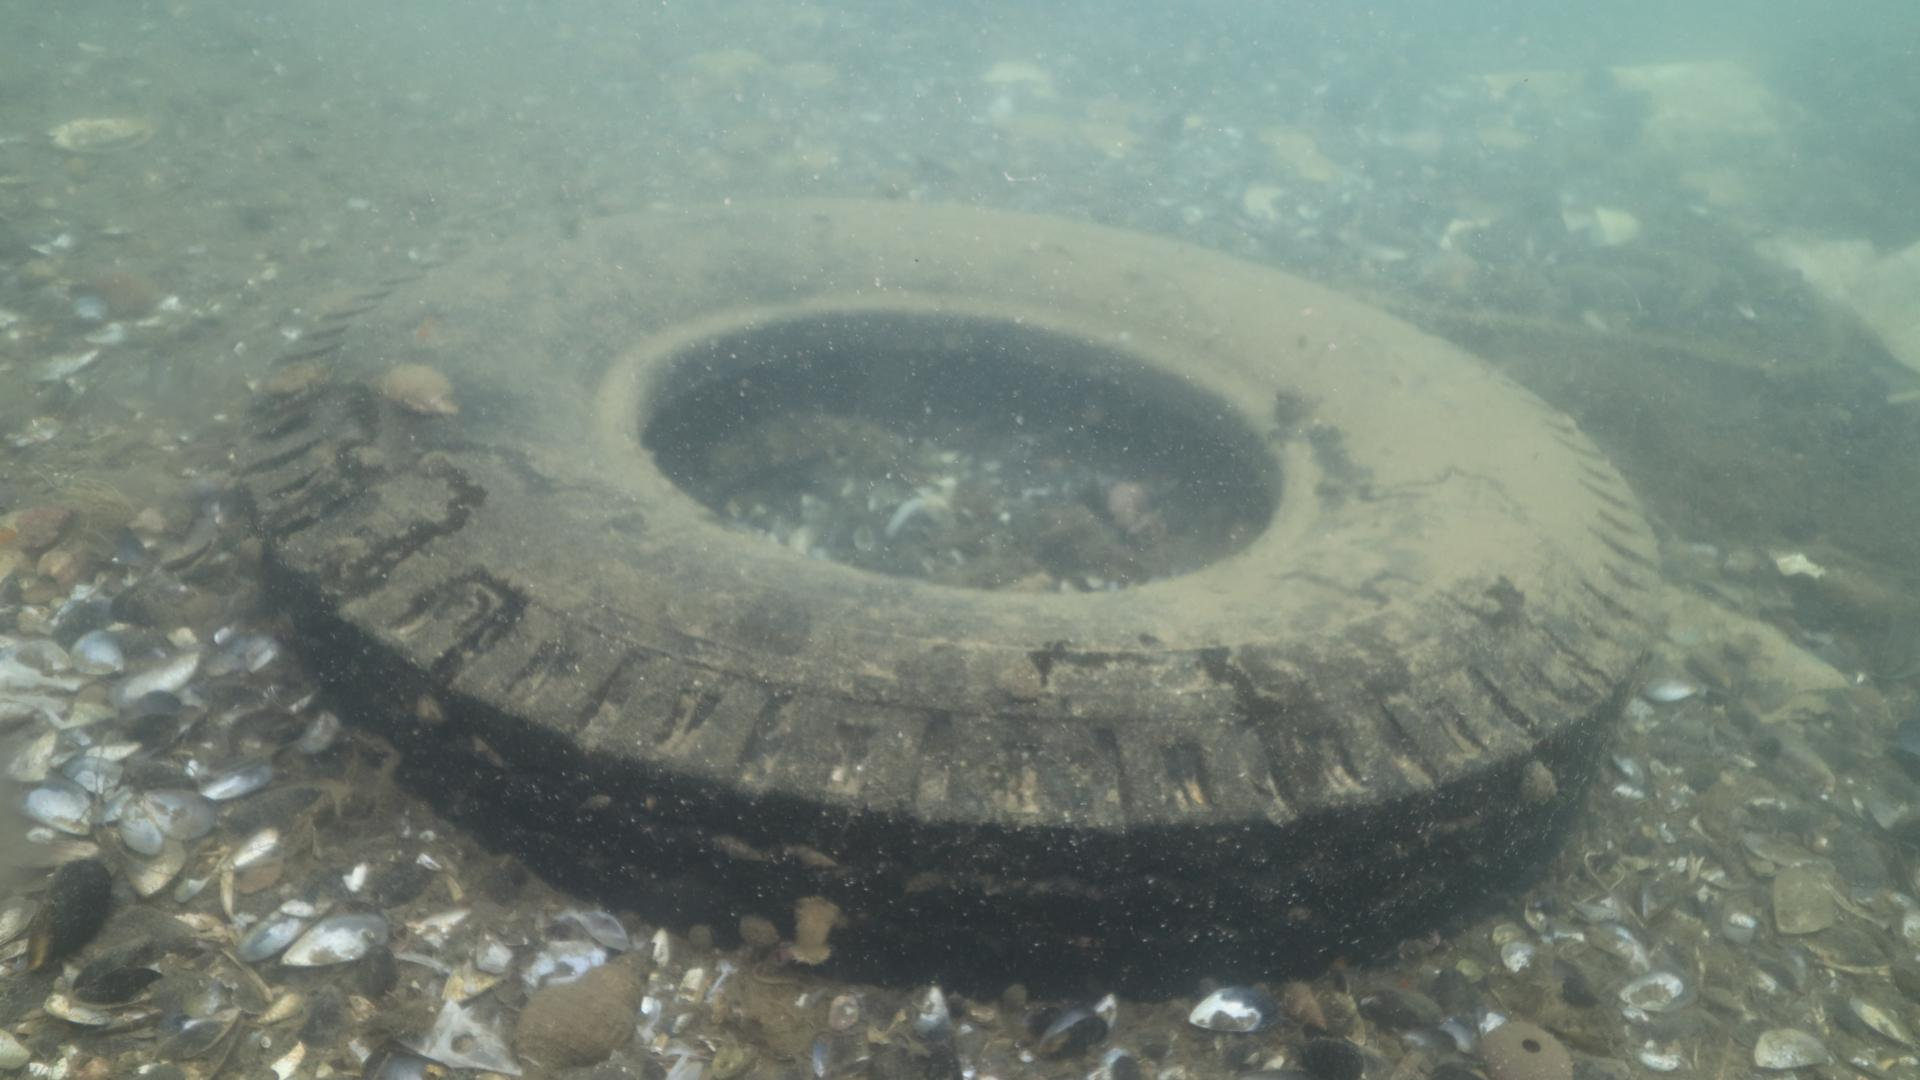tire: (233, 196, 1675, 985)
